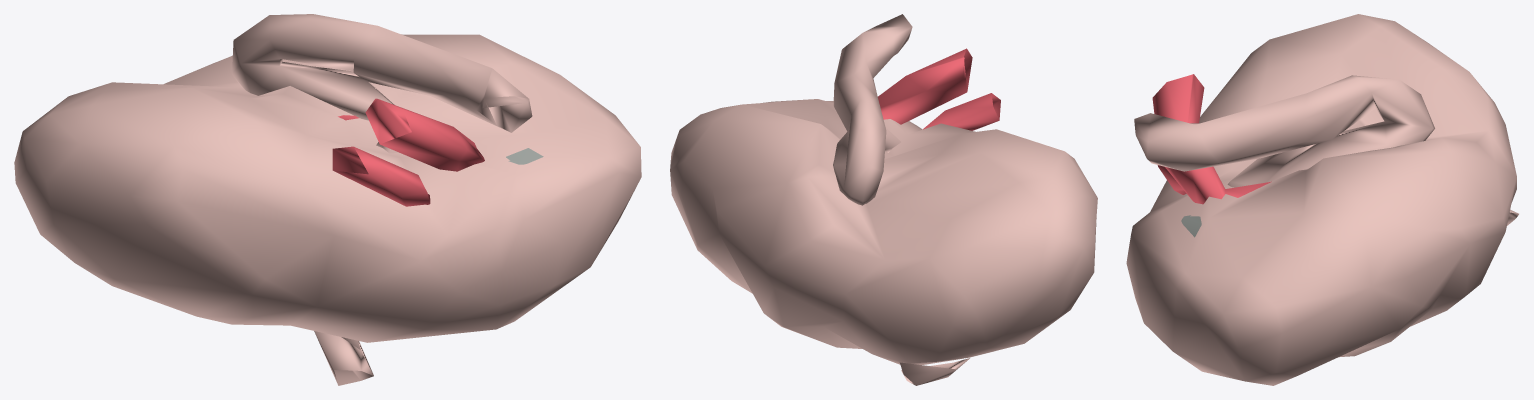
File: lymph_node.glb
The picture shows the model from 3 angles, left to right: view 1: azimuth 30°, elevation 25°; view 2: azimuth 150°, elevation 25°; view 3: azimuth 270°, elevation 25°; orthographic projection. The views are drawn at different scales.
Visible parts, largest first — view 1: Yao_afferent_lymphatic_vessel, Yao_blood_vasculature; view 2: Yao_afferent_lymphatic_vessel, Yao_blood_vasculature; view 3: Yao_afferent_lymphatic_vessel, Yao_blood_vasculature.
Boxes of the visible parts, left/top/right/bottom form: Yao_afferent_lymphatic_vessel: left=14, top=14, right=641, bottom=385; Yao_blood_vasculature: left=332, top=98, right=484, bottom=206; Yao_afferent_lymphatic_vessel: left=670, top=14, right=1097, bottom=385; Yao_blood_vasculature: left=878, top=48, right=1000, bottom=130; Yao_afferent_lymphatic_vessel: left=1126, top=14, right=1518, bottom=385; Yao_blood_vasculature: left=1152, top=74, right=1271, bottom=204.
Bounding box in the file's own units: 0.0183 × 0.0106 × 0.0129.
